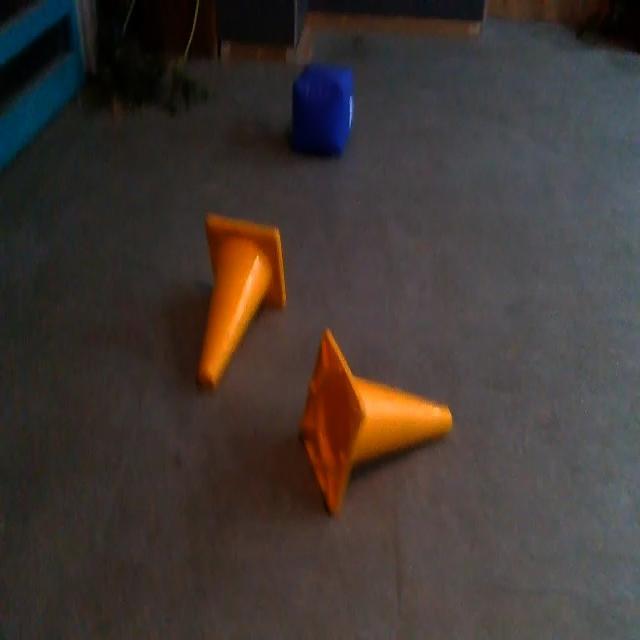cone: (302, 326, 454, 515), (195, 215, 286, 395)
cube: (292, 65, 355, 159)
